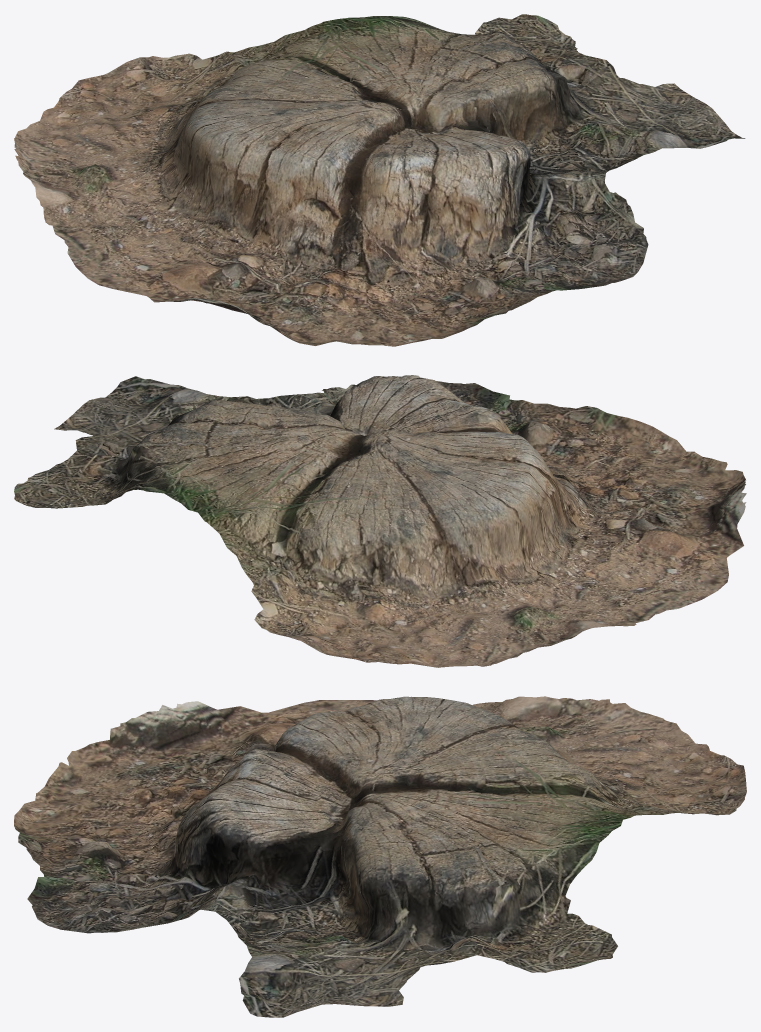
Rendered from log3.glb.
3 renders of one model, top to bottom at view 1: azimuth 30°, elevation 25°; view 2: azimuth 150°, elevation 25°; view 3: azimuth 270°, elevation 25°, orthographic. The views are drawn at different scales.
Parts seen in each view (by area): view 1: Model_material0_0; view 2: Model_material0_0; view 3: Model_material0_0.
Part boxes in pixels (x1,y1,x2,y2): Model_material0_0: [14, 14, 745, 346]; Model_material0_0: [14, 375, 746, 667]; Model_material0_0: [14, 696, 746, 1017].
Size of the model in its own units: 6 by 0.8918 by 5.54.
1 material, 1 textured.
